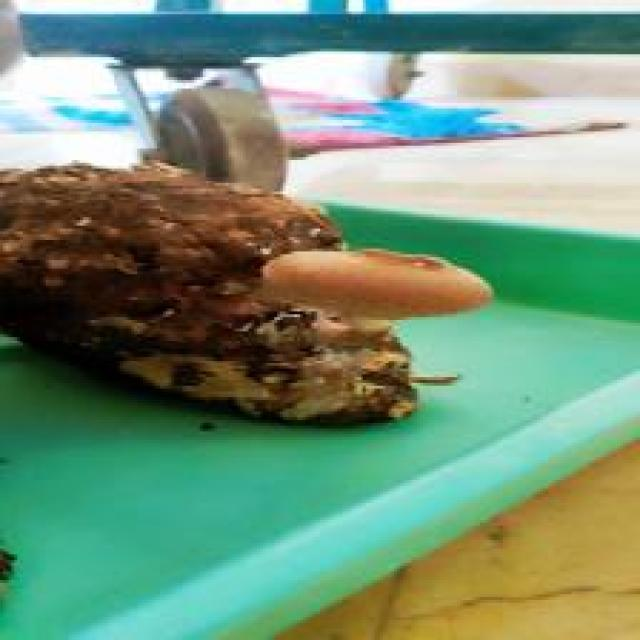chanterelle: (0, 154, 491, 425)
